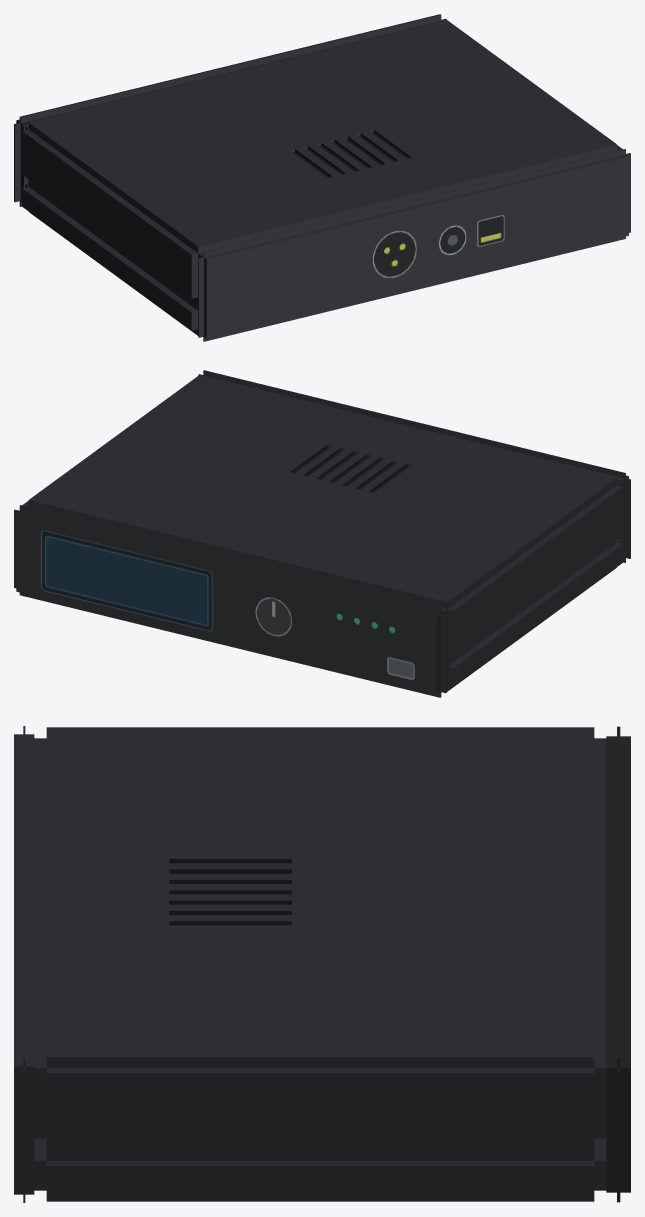
File: shure-qlx-d-receiver.glb
3 renders of one model, top to bottom at view 1: azimuth 30°, elevation 25°; view 2: azimuth 150°, elevation 25°; view 3: azimuth 270°, elevation 25°, orthographic. The views are drawn at different scales.
Parts seen in each view (by area): view 1: shure-qlx-d-receiver-body; view 2: shure-qlx-d-receiver-body; view 3: shure-qlx-d-receiver-body.
Boxes of the visible parts, <box> form: shure-qlx-d-receiver-body: <box>14,14,630,341</box>; shure-qlx-d-receiver-body: <box>14,370,630,697</box>; shure-qlx-d-receiver-body: <box>14,726,630,1202</box>.
Size of the model in its own units: 0.197 by 0.041 by 0.151.
1 material, 1 textured.
